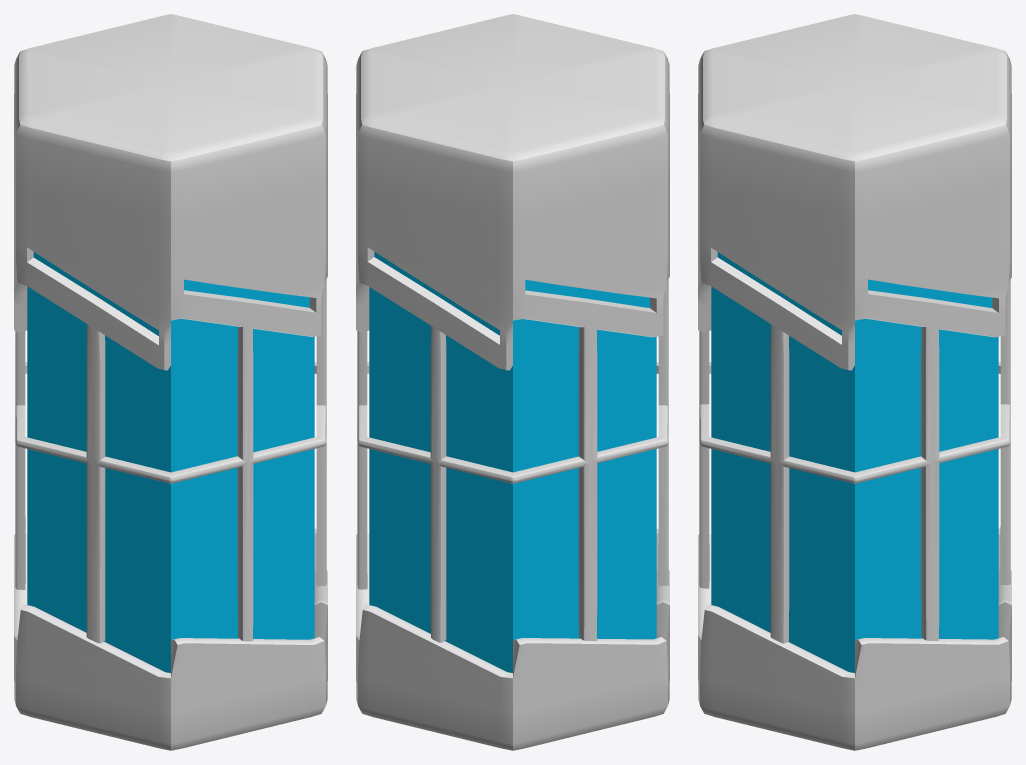
The model's file is stage_underB.fbx.
3 renders of one model, left to right at view 1: azimuth 30°, elevation 25°; view 2: azimuth 150°, elevation 25°; view 3: azimuth 270°, elevation 25°, orthographic.
Parts seen in each view (by area): view 1: stage_underB_1, stage_underB_2_1, stage_underB_3, stage_underB_2_2; view 2: stage_underB_1, stage_underB_2_1, stage_underB_3, stage_underB_2_2; view 3: stage_underB_1, stage_underB_2_1, stage_underB_3, stage_underB_2_2.
Part boxes in pixels (x1,y1,x2,y2): stage_underB_1: (14, 14, 327, 370); stage_underB_2_1: (27, 252, 314, 672); stage_underB_3: (14, 528, 327, 750); stage_underB_2_2: (15, 279, 326, 643); stage_underB_1: (356, 14, 669, 370); stage_underB_2_1: (369, 251, 656, 672); stage_underB_3: (356, 528, 669, 750); stage_underB_2_2: (357, 279, 668, 642); stage_underB_1: (698, 14, 1011, 370); stage_underB_2_1: (711, 252, 998, 672); stage_underB_3: (698, 528, 1011, 750); stage_underB_2_2: (699, 280, 1010, 643).
Bounding box in the file's own units: 324 × 598 × 284.
